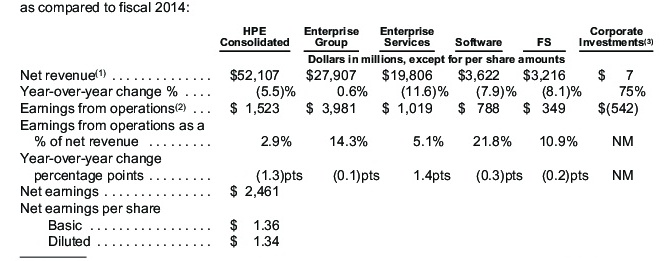table: (0, 0, 668, 261)
